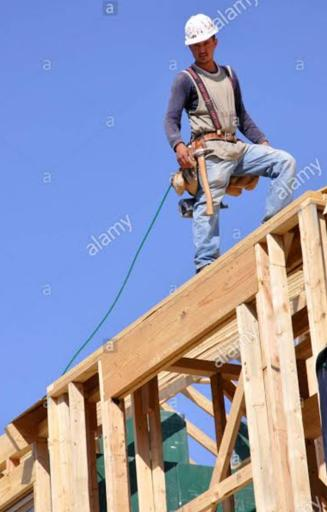safe person: (163, 9, 299, 213)
